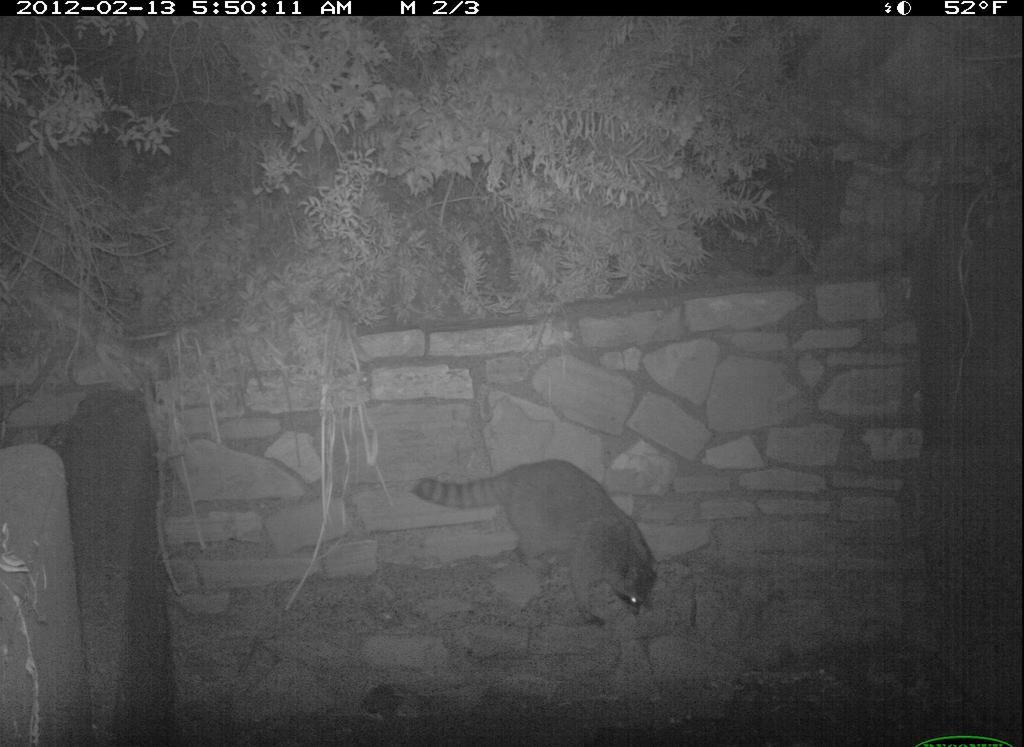raccoon: (406, 450, 666, 641)
